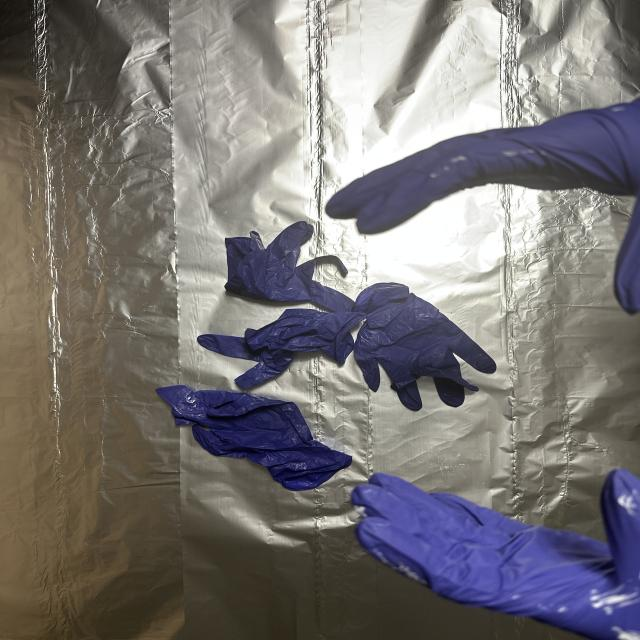gloves_contaminated: (326, 99, 640, 311), (351, 469, 640, 640)
